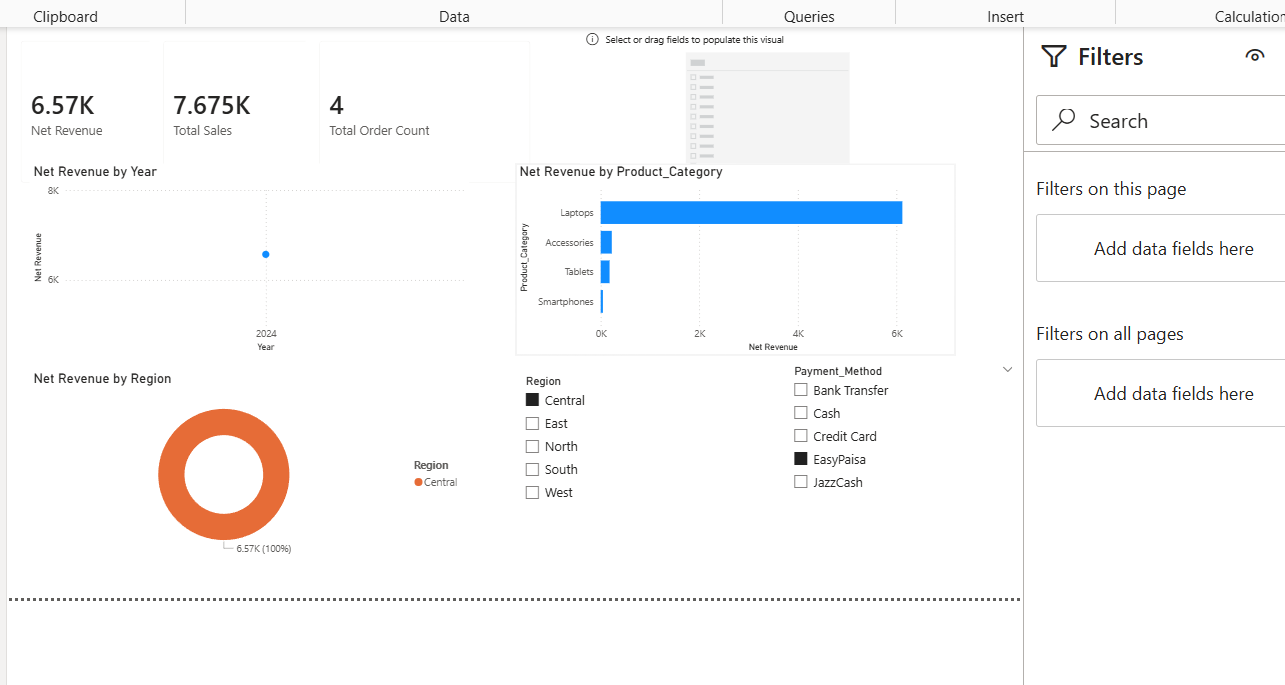

The dashboard page shown, as its layout file describes it:
{"tool":"powerbi","page":{"name":"Page 1","canvas":[1280,720],"ordinal":0},"visuals":[{"type":"textbox","box":[442.2,0,279.7,279.7],"z":0},{"type":"cardVisual","fields":{"Data":["Sales_Data.Net Revenue"]},"box":[0,0,300.5,213.5],"z":1000},{"type":"cardVisual","fields":{"Data":["Sales_Data.Total Sales"]},"box":[179.5,0,300.5,213.5],"z":2000},{"type":"cardVisual","fields":{"Data":["Sales_Data.Total Order Count"]},"box":[376.1,0,300.5,213.5],"z":3000},{"type":"lineChart","fields":{"Category":["Sales_Data.Date.Variation.Date Hierarchy.Year","Sales_Data.Date.Variation.Date Hierarchy.Quarter","Sales_Data.Date.Variation.Date Hierarchy.Month","Sales_Data.Date.Variation.Date Hierarchy.Day"],"Y":["Sales_Data.Net Revenue"]},"box":[28.3,172,553.7,241.9],"z":4000},{"type":"clusteredBarChart","fields":{"Y":["Sales_Data.Net Revenue"],"Category":["Sales_Data.Product_Category"]},"box":[640.6,172,553.7,241.9],"z":5000},{"type":"donutChart","fields":{"Category":["Sales_Data.Region"],"Y":["Sales_Data.Net Revenue"]},"box":[28,433,554,242],"z":6000},{"type":"slicer","fields":{"Values":["Sales_Data.Region"]},"box":[641,433,554,242],"z":7000},{"type":"slicer","box":[722,0,473,172],"z":8000},{"type":"slicer","fields":{"Values":["Sales_Data.Payment_Method"]},"box":[978.9,419.5,300.5,300.5],"z":8001}]}

Visuals, with their boxes on the page's 1280x720 design canvas (x1, y1, x2, y2). These are canvas units, not pixel positions in the 1285x685 screenshot, which may show the page scaled, cropped or inside an application window:
textbox: l=442, t=0, r=722, b=280
cardVisual - Sales_Data.Net Revenue: l=0, t=0, r=300, b=214
cardVisual - Sales_Data.Total Sales: l=180, t=0, r=480, b=214
cardVisual - Sales_Data.Total Order Count: l=376, t=0, r=677, b=214
lineChart - Sales_Data.Date.Variation.Date Hierarchy.Year x Sales_Data.Date.Variation.Date Hierarchy.Quarter: l=28, t=172, r=582, b=414
clusteredBarChart - Sales_Data.Net Revenue x Sales_Data.Product_Category: l=641, t=172, r=1194, b=414
donutChart - Sales_Data.Region x Sales_Data.Net Revenue: l=28, t=433, r=582, b=675
slicer - Sales_Data.Region: l=641, t=433, r=1195, b=675
slicer: l=722, t=0, r=1195, b=172
slicer - Sales_Data.Payment_Method: l=979, t=420, r=1279, b=720
